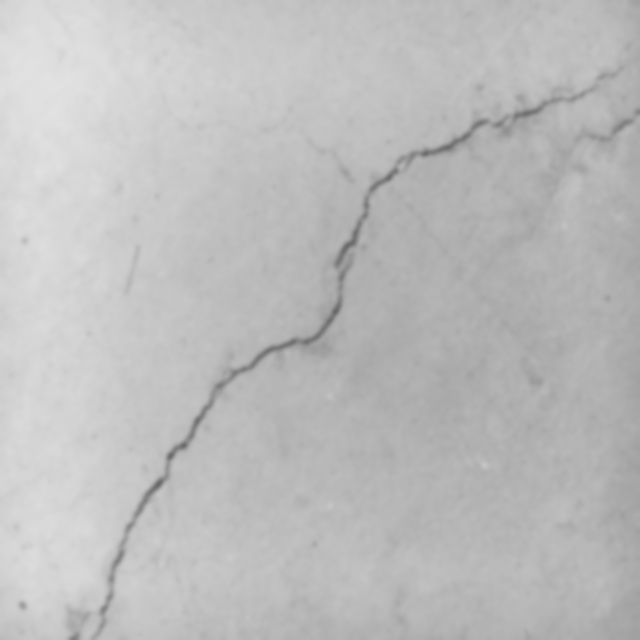SurfaceCrack: (14, 0, 640, 639)
